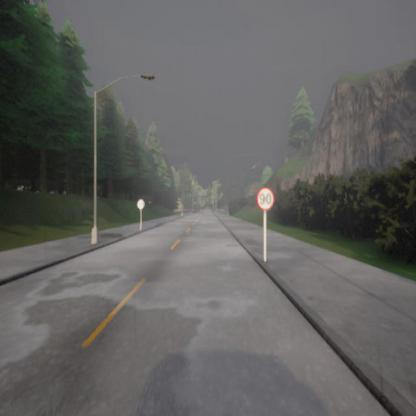traffic_sign_90: (257, 187, 274, 211)
